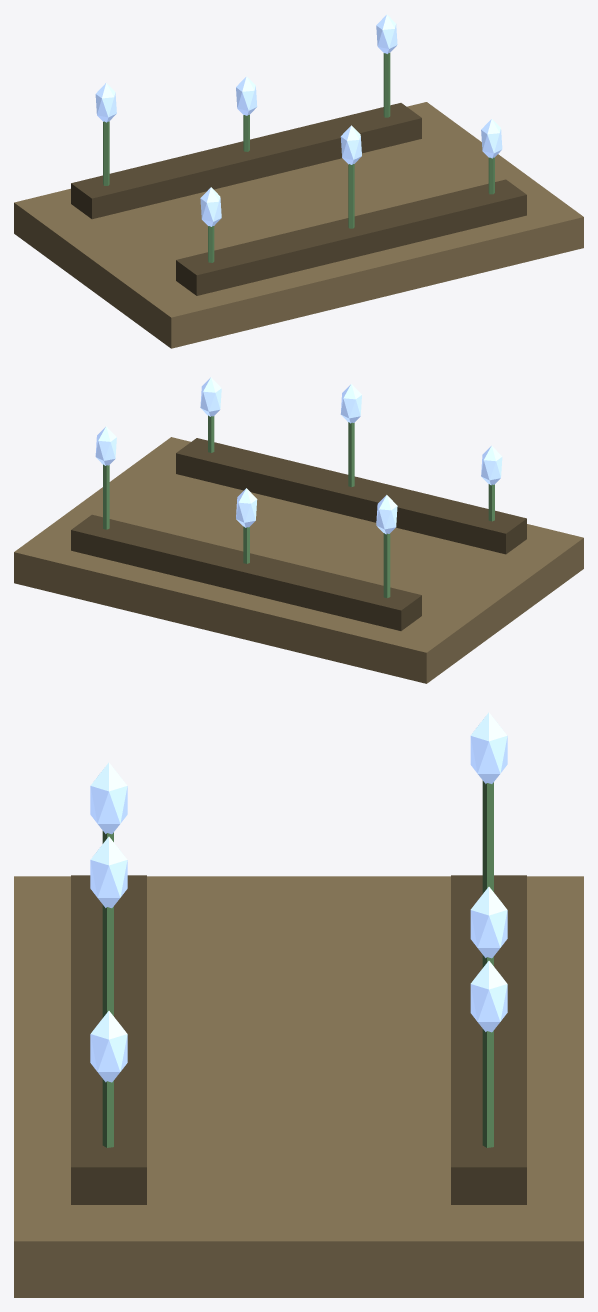
The model's file is gate_field_flax_row.lod1.glb.
3 views of the same model, one above another, from view 1: azimuth 30°, elevation 25°; view 2: azimuth 150°, elevation 25°; view 3: azimuth 270°, elevation 25° (orthographic). The views are drawn at different scales.
Size of the model in its own units: 2.5 by 0.8915 by 1.65.
